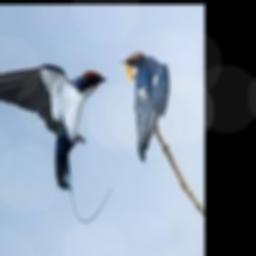Swallow: (0, 63, 107, 189), (120, 50, 169, 160)
